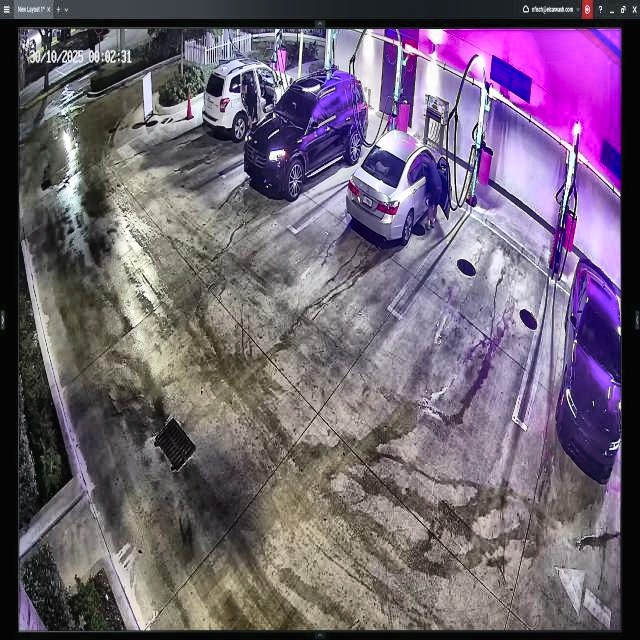Car: (243, 71, 369, 197), (346, 131, 452, 243), (202, 60, 290, 142)
